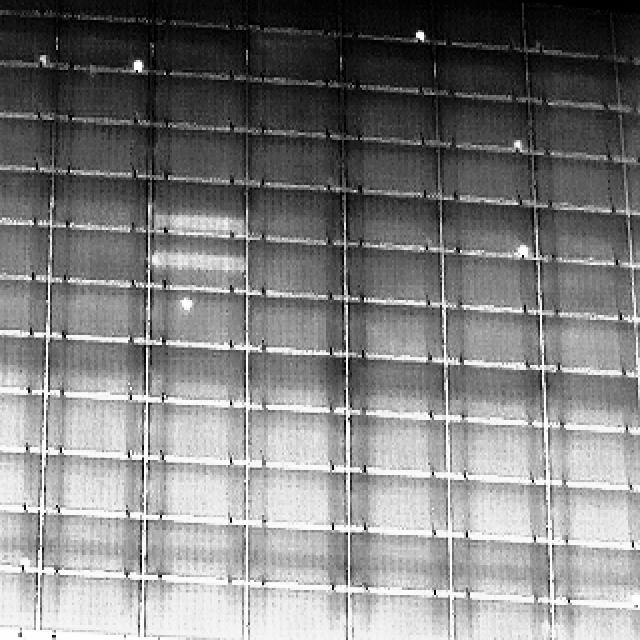Hotspots: (177, 290, 200, 318), (150, 212, 174, 233), (126, 56, 150, 76), (504, 136, 528, 154), (510, 238, 533, 256), (520, 238, 540, 258)
PV-modules: (36, 510, 144, 580), (38, 450, 145, 519), (143, 518, 253, 585), (33, 574, 144, 639), (144, 399, 250, 466), (349, 529, 454, 595), (140, 577, 250, 640), (44, 333, 146, 400), (142, 458, 250, 520), (244, 525, 347, 589), (244, 464, 345, 529), (348, 352, 449, 417), (45, 228, 147, 292), (348, 473, 452, 535), (448, 476, 547, 541), (41, 398, 144, 460), (45, 118, 151, 178), (450, 538, 552, 600), (44, 280, 146, 342), (448, 417, 545, 482), (148, 290, 249, 352), (349, 412, 451, 473), (242, 297, 344, 358), (244, 348, 345, 409), (444, 363, 545, 424), (45, 172, 149, 231), (241, 129, 343, 189), (242, 408, 344, 468), (346, 245, 443, 308), (148, 179, 248, 240), (145, 346, 246, 406), (51, 63, 150, 124), (244, 240, 344, 300), (243, 184, 344, 243), (148, 233, 249, 292), (542, 369, 635, 433), (243, 80, 342, 140), (525, 101, 622, 162), (341, 137, 443, 195), (344, 190, 444, 249), (346, 304, 444, 364), (445, 307, 541, 368), (149, 124, 249, 182), (340, 90, 440, 148), (541, 318, 639, 377), (536, 258, 632, 318), (438, 146, 534, 206), (533, 204, 629, 264), (443, 253, 539, 313), (242, 29, 341, 87), (242, 585, 346, 640), (441, 198, 537, 257), (520, 0, 616, 59), (431, 44, 530, 101), (348, 587, 454, 640), (435, 97, 531, 155), (549, 427, 640, 488), (552, 543, 640, 606), (548, 482, 634, 546), (150, 25, 250, 80), (149, 75, 250, 129), (522, 52, 616, 110), (530, 158, 624, 216), (51, 20, 150, 74), (338, 37, 432, 93), (424, 0, 528, 47), (448, 595, 552, 640), (554, 600, 640, 640), (0, 162, 52, 228), (0, 57, 58, 115), (339, 4, 435, 39), (0, 110, 54, 170), (0, 12, 56, 68), (0, 215, 52, 275), (0, 330, 48, 395), (0, 273, 50, 335), (240, 0, 340, 30), (0, 560, 44, 625), (0, 445, 42, 513), (149, 0, 249, 28), (0, 385, 40, 453), (0, 505, 40, 567), (56, 0, 156, 20), (611, 6, 640, 61), (618, 58, 640, 113), (621, 110, 640, 164), (624, 160, 640, 218), (627, 208, 640, 264)
